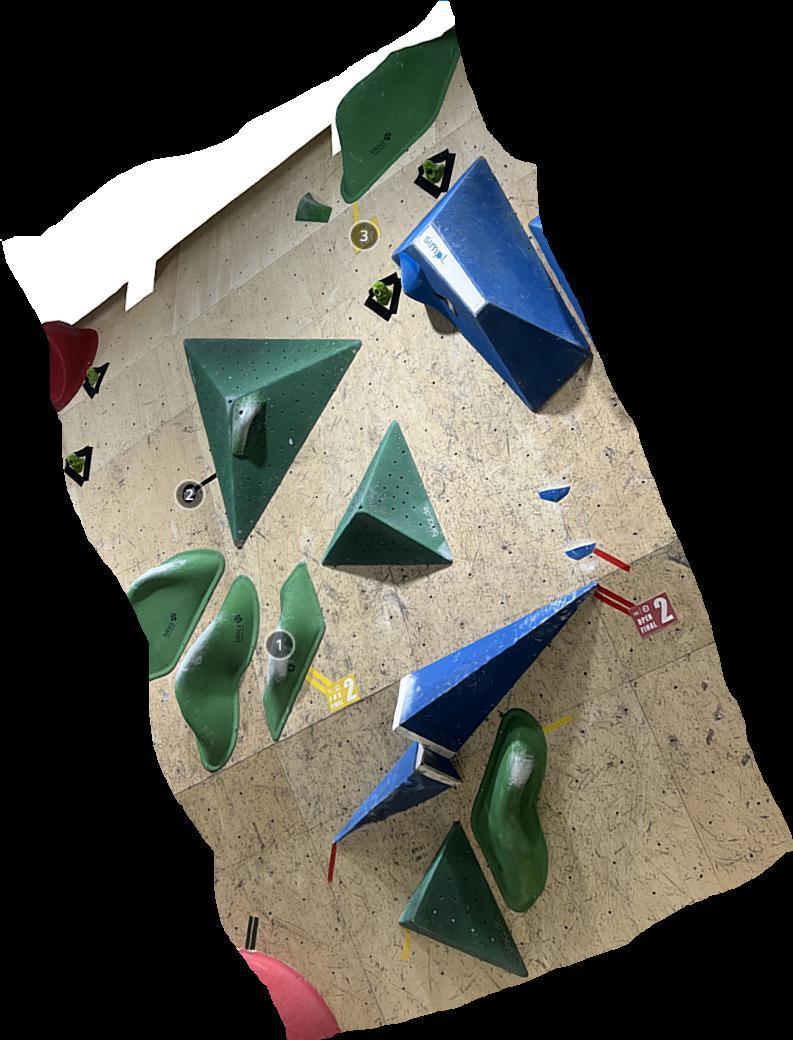hold: (391, 156, 590, 413), (391, 581, 598, 759), (335, 35, 461, 202), (175, 575, 259, 772), (471, 708, 548, 913), (332, 741, 463, 844), (127, 549, 225, 681), (264, 561, 326, 741), (237, 948, 341, 1040), (528, 215, 593, 343), (42, 321, 99, 411), (399, 252, 448, 316), (232, 391, 266, 458), (414, 148, 456, 199), (363, 271, 401, 322), (64, 446, 93, 487), (295, 192, 333, 223), (83, 362, 110, 399), (565, 541, 597, 559), (538, 485, 571, 502)
volume: (183, 338, 362, 550), (398, 823, 529, 978), (322, 420, 453, 567)
